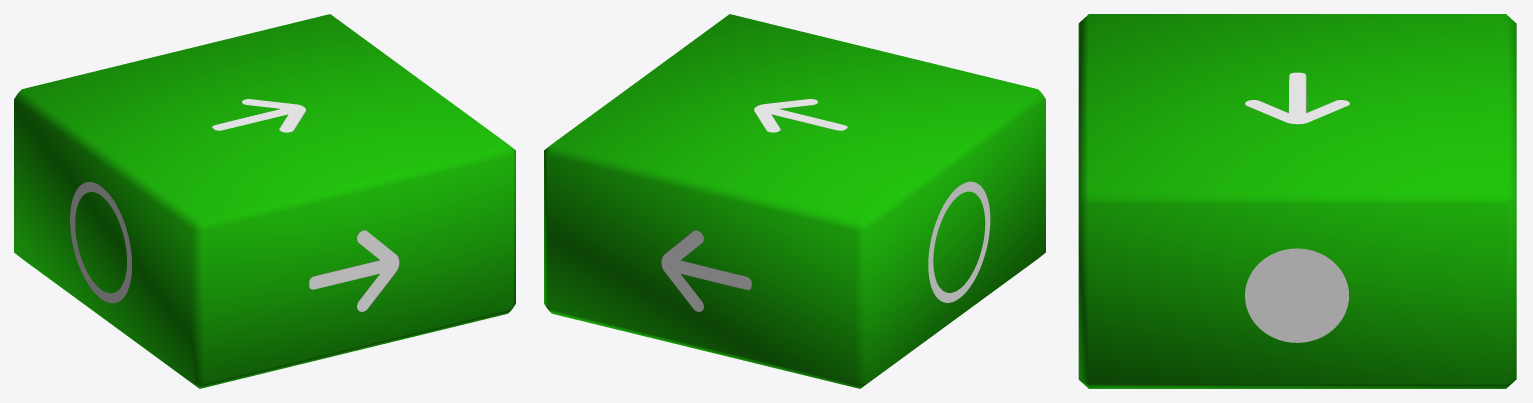
The model's file is BigBoxTapFlowBox_2_1_2_Clean_test2.fbx.
The picture shows the model from 3 angles, left to right: view 1: azimuth 30°, elevation 25°; view 2: azimuth 150°, elevation 25°; view 3: azimuth 270°, elevation 25°; orthographic projection. The views are drawn at different scales.
Parts seen in each view (by area): view 1: уц; view 2: уц; view 3: уц.
Boxes of the visible parts, x1,y1,x2,y2 form: уц: (14,14,515,388); уц: (544,14,1045,388); уц: (1078,14,1516,388).
Size of the model in its own units: 2.11 by 1.05 by 2.13.
1 material, 1 textured.
